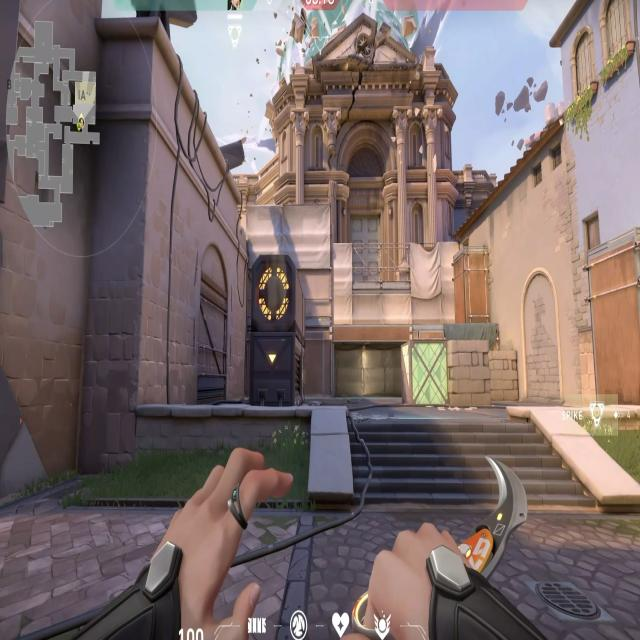A_Heaven_Box: (452, 241, 491, 332)
A_Heaven_Wall: (243, 201, 337, 326)
A_Hell: (322, 329, 421, 412)
A_Site_Box: (399, 337, 492, 412)
